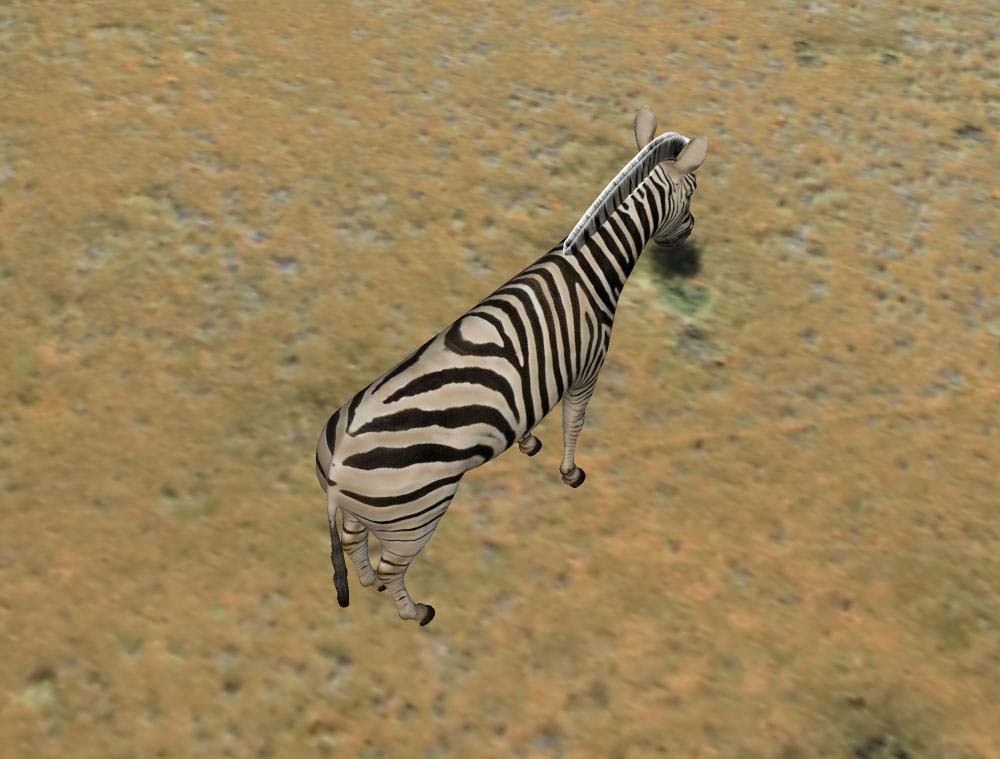zebra: (317, 102, 709, 627)
